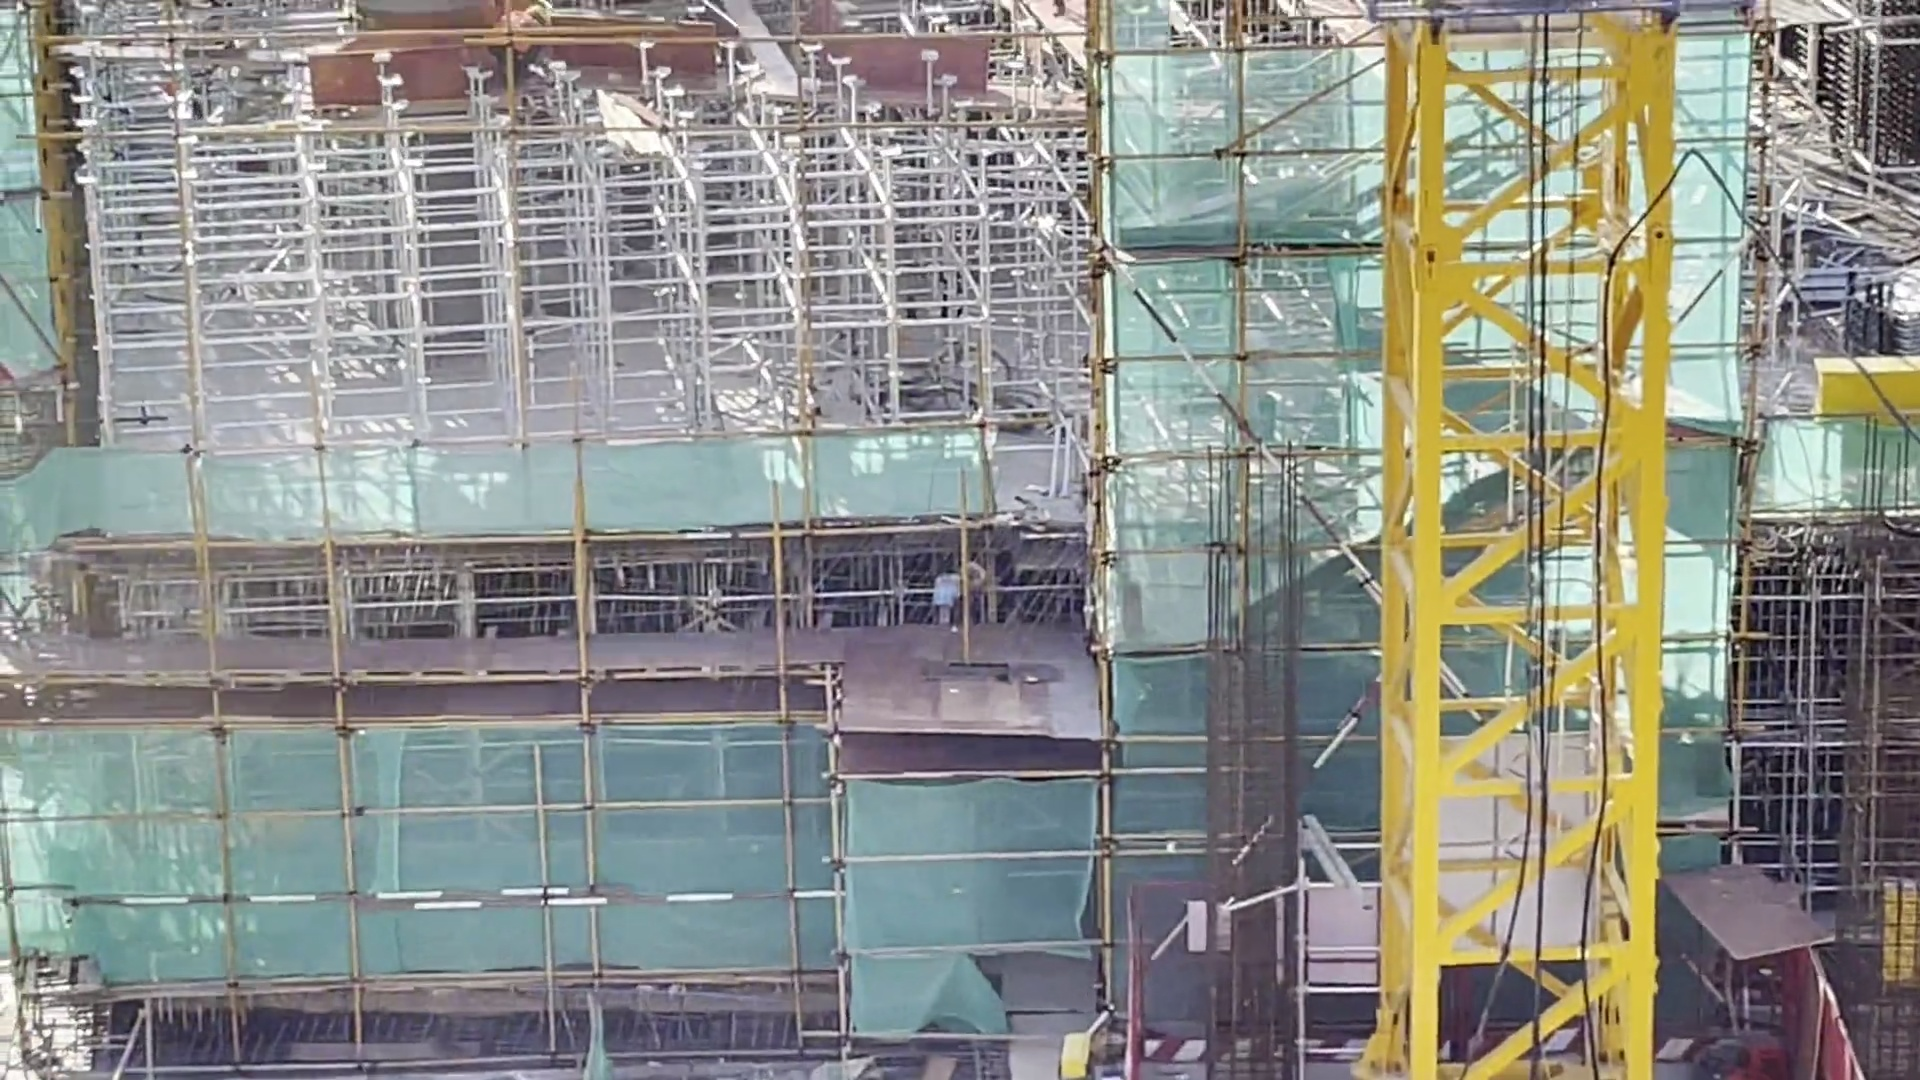ebox: (1815, 349, 1920, 410), (1050, 1029, 1095, 1080)
fence: (1788, 957, 1869, 1080)
